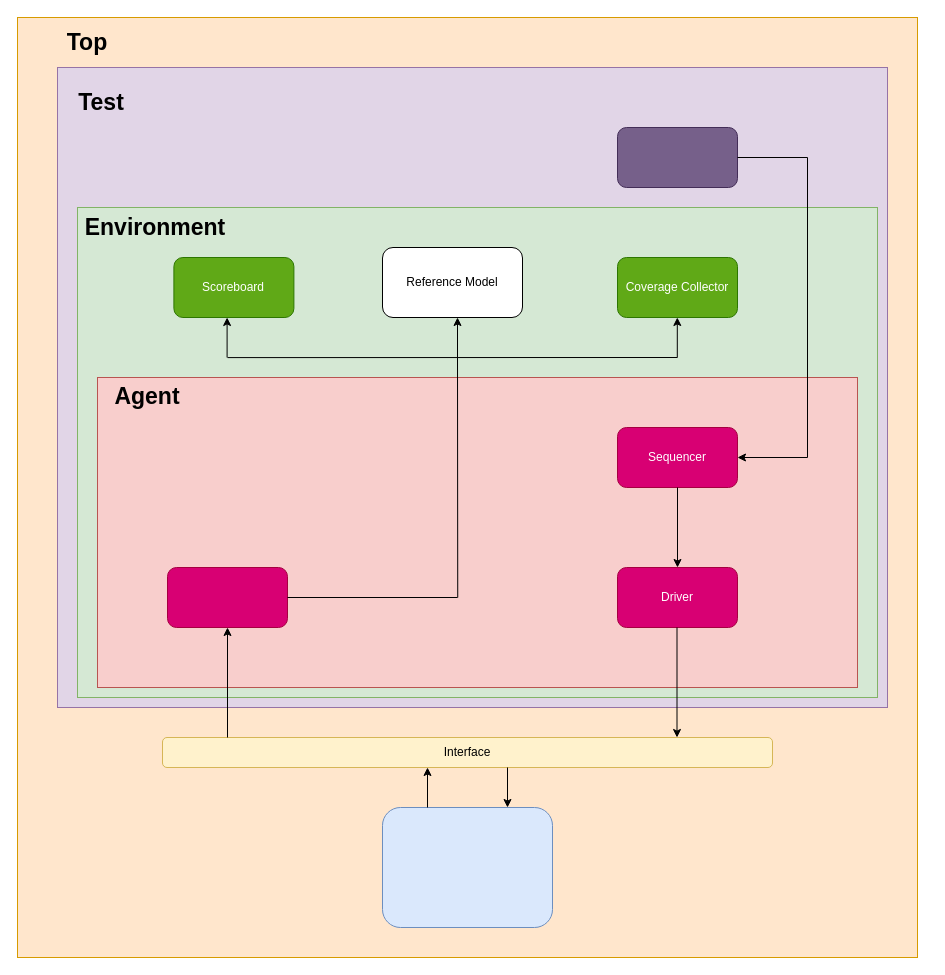
Image size: 945x975. Some labels were removed from this diagram. The shapes that lost their labels are listed below. From the top down, each one's box as (x1, y1, x2, y2) in pixels, then its label:
(616, 126, 738, 188): Sequence
(166, 566, 288, 628): Monitor
(382, 806, 552, 928): DUT_ALU
